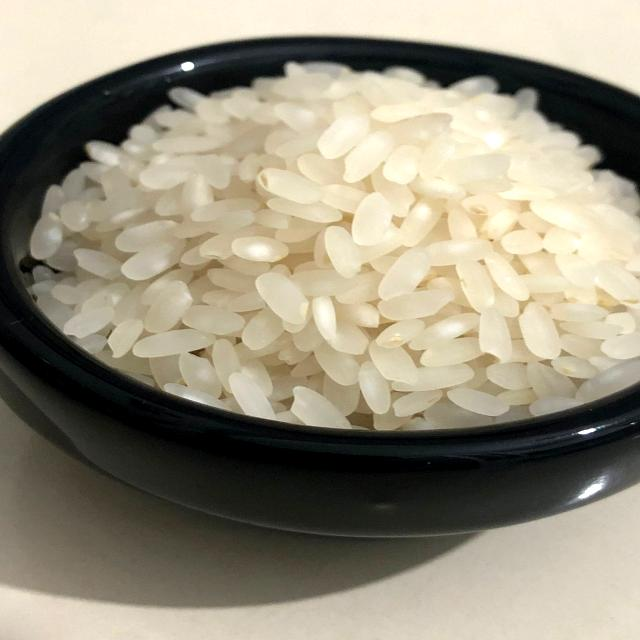rice: (12, 42, 640, 444)
